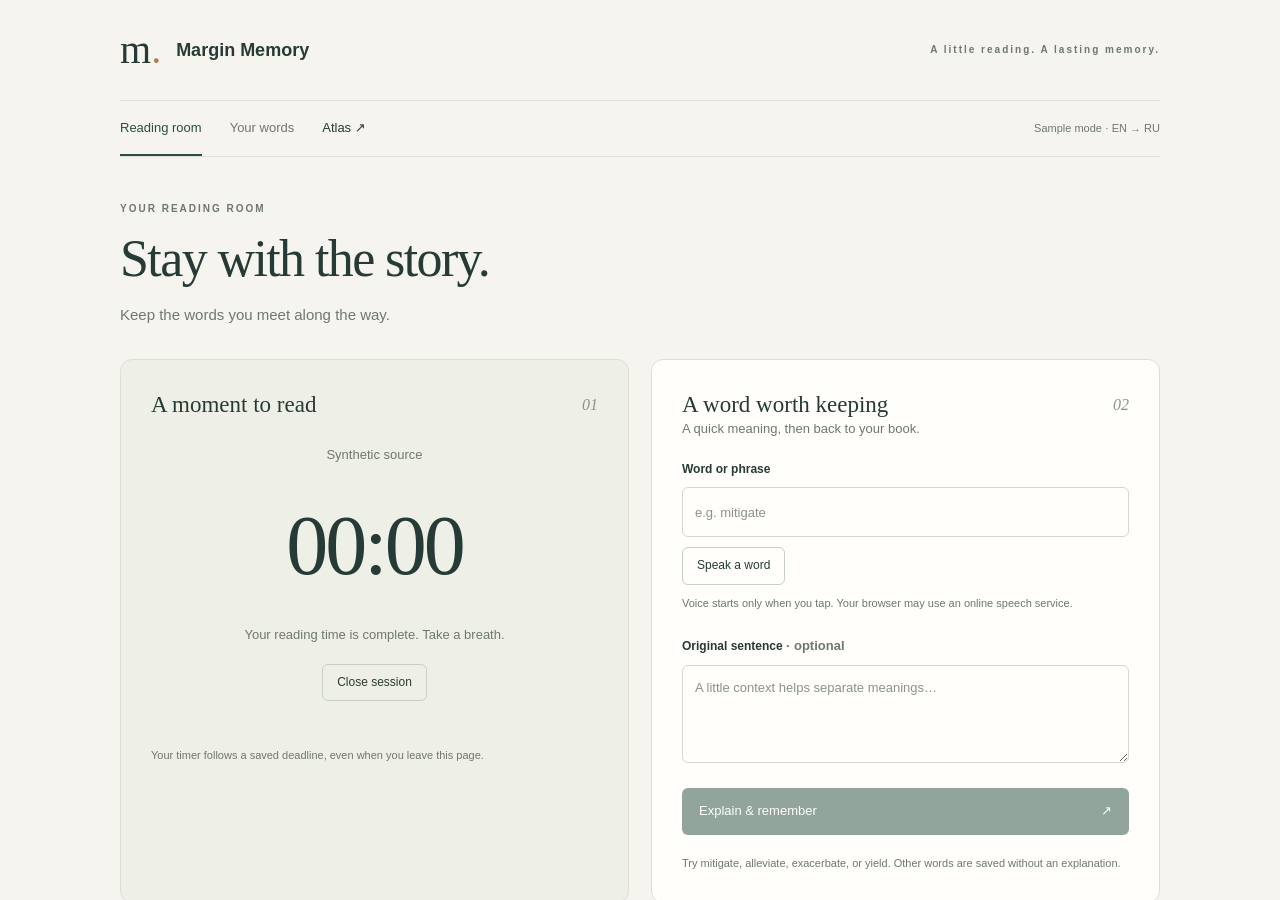
Test case: closes a session without assigning a review or recording a skipped exercise
The image size is (1280, 900).
Click the button "Close session": (374, 683) left=322, top=664, right=427, bottom=702
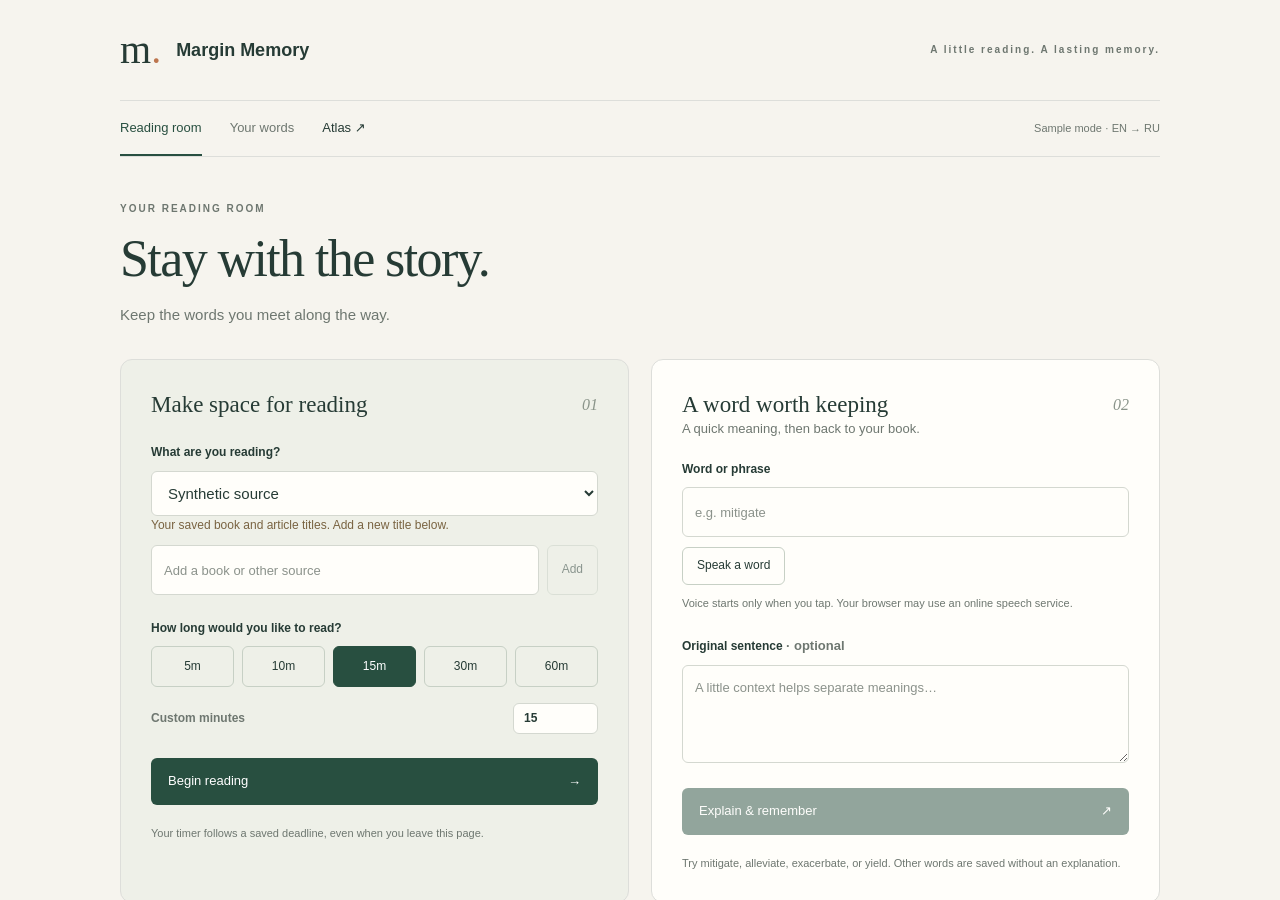
Expected: the field labelled "Word or phrase" is shown, left=682, top=488, right=1129, bottom=538
Result: the button "Begin reading →" is shown at left=151, top=758, right=598, bottom=805
